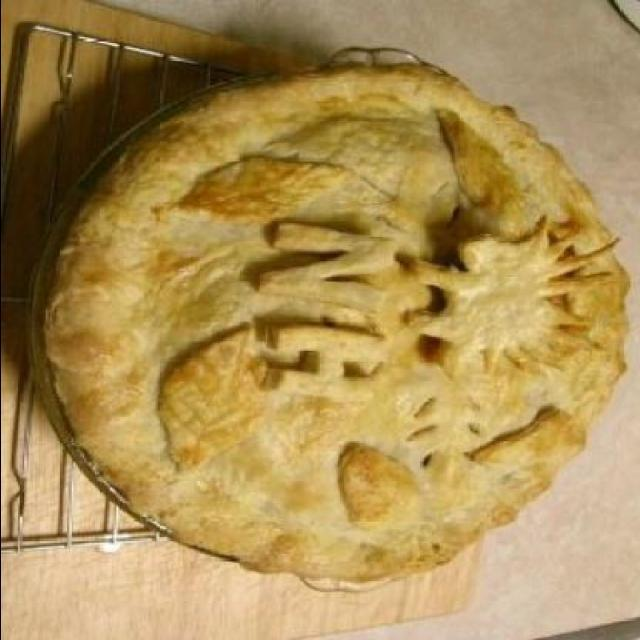Apple: (42, 60, 638, 582)
